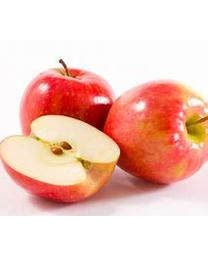apple: (105, 80, 207, 183), (0, 115, 119, 203), (17, 59, 116, 134)
